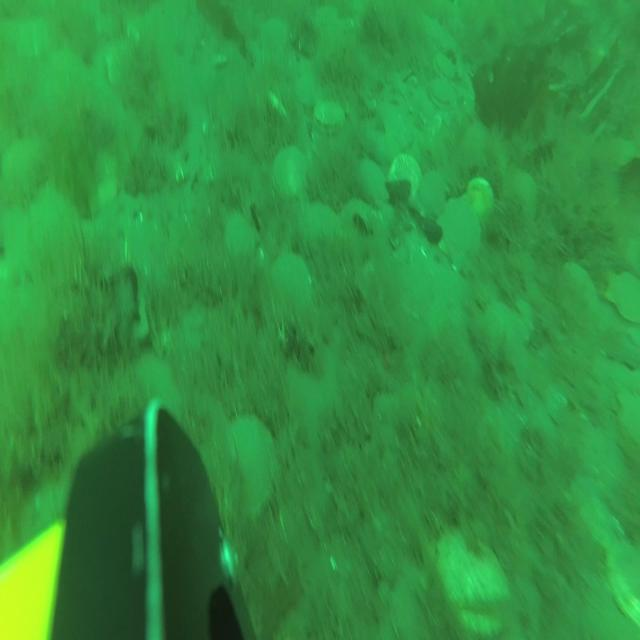scallop: (436, 529, 511, 640), (223, 415, 277, 531), (26, 189, 85, 283), (559, 260, 598, 334), (272, 254, 308, 331), (440, 201, 479, 270), (580, 491, 618, 554), (608, 261, 640, 331), (341, 202, 379, 260), (482, 304, 520, 361), (301, 207, 339, 260), (356, 154, 390, 212), (614, 389, 640, 455), (274, 145, 306, 198), (390, 154, 422, 206), (507, 167, 538, 219), (228, 211, 259, 261), (420, 176, 450, 224), (260, 18, 290, 62), (313, 95, 343, 137), (430, 75, 458, 116), (295, 72, 318, 110), (435, 49, 457, 84)
